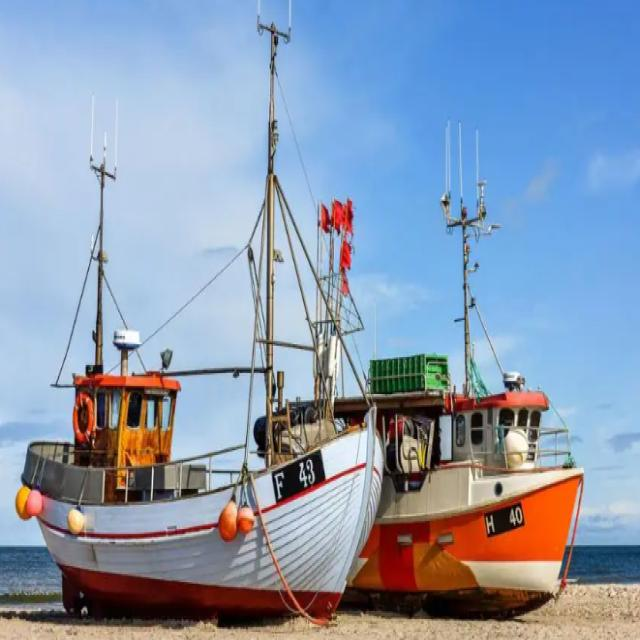fishing boat: (16, 81, 377, 610), (232, 243, 580, 612)
